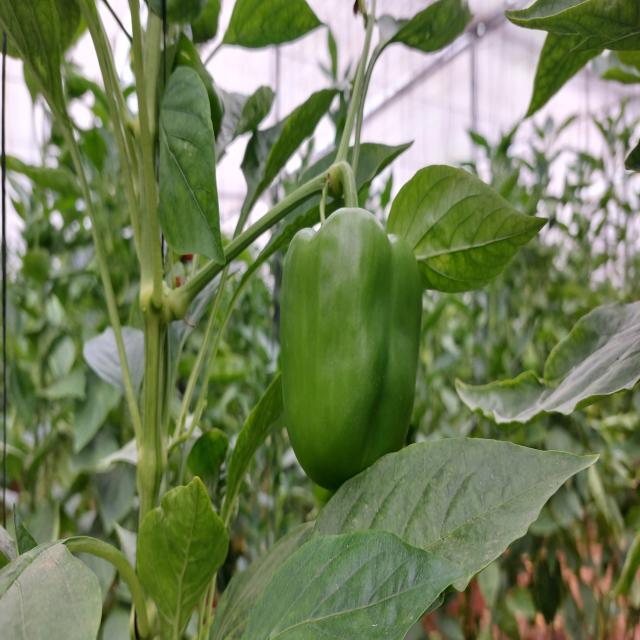Green--Not-ready-to-harvest: (279, 214, 424, 490)
